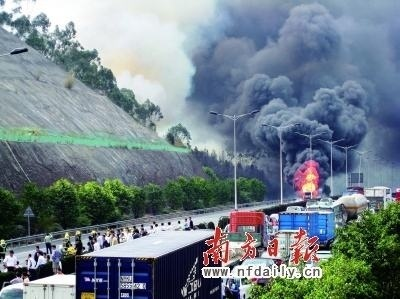fire: (296, 161, 321, 195)
